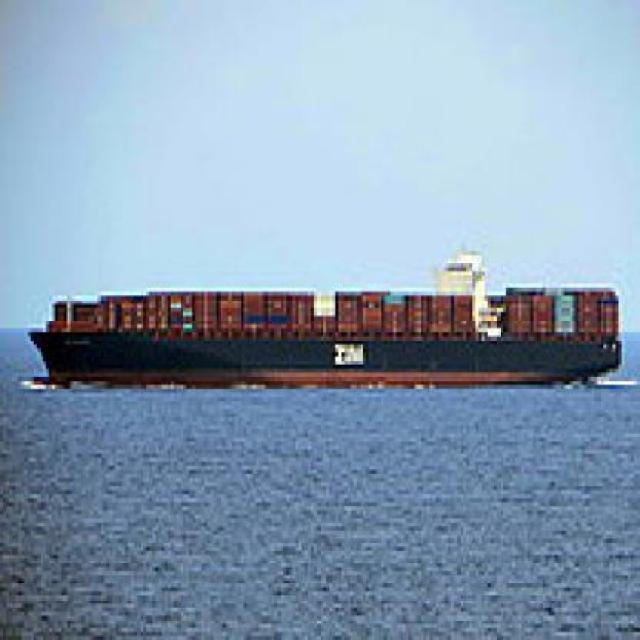container: (23, 253, 629, 394)
